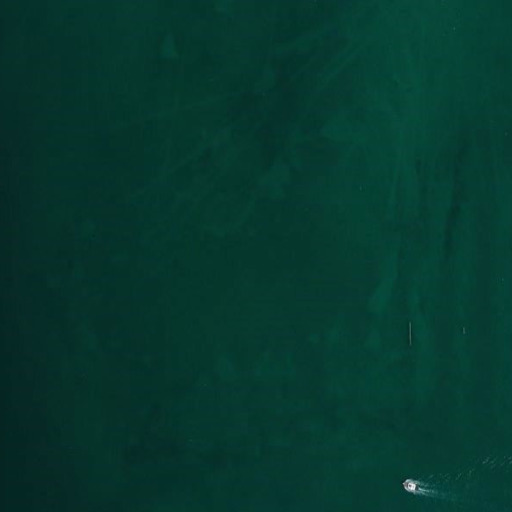ship: (401, 477, 422, 494)
